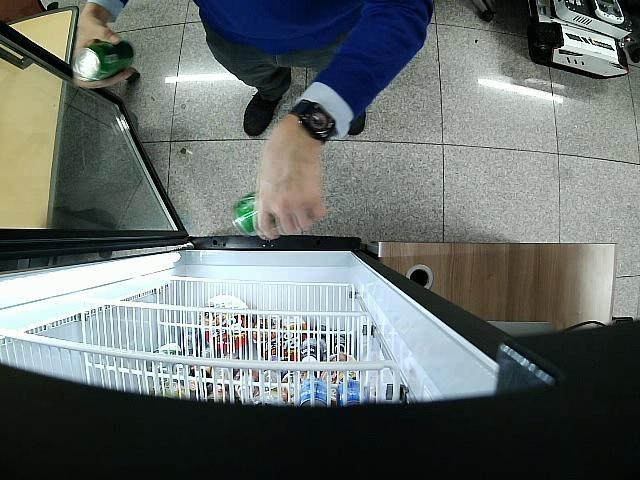12_chilsungCider: (72, 40, 134, 84), (232, 190, 276, 236)
